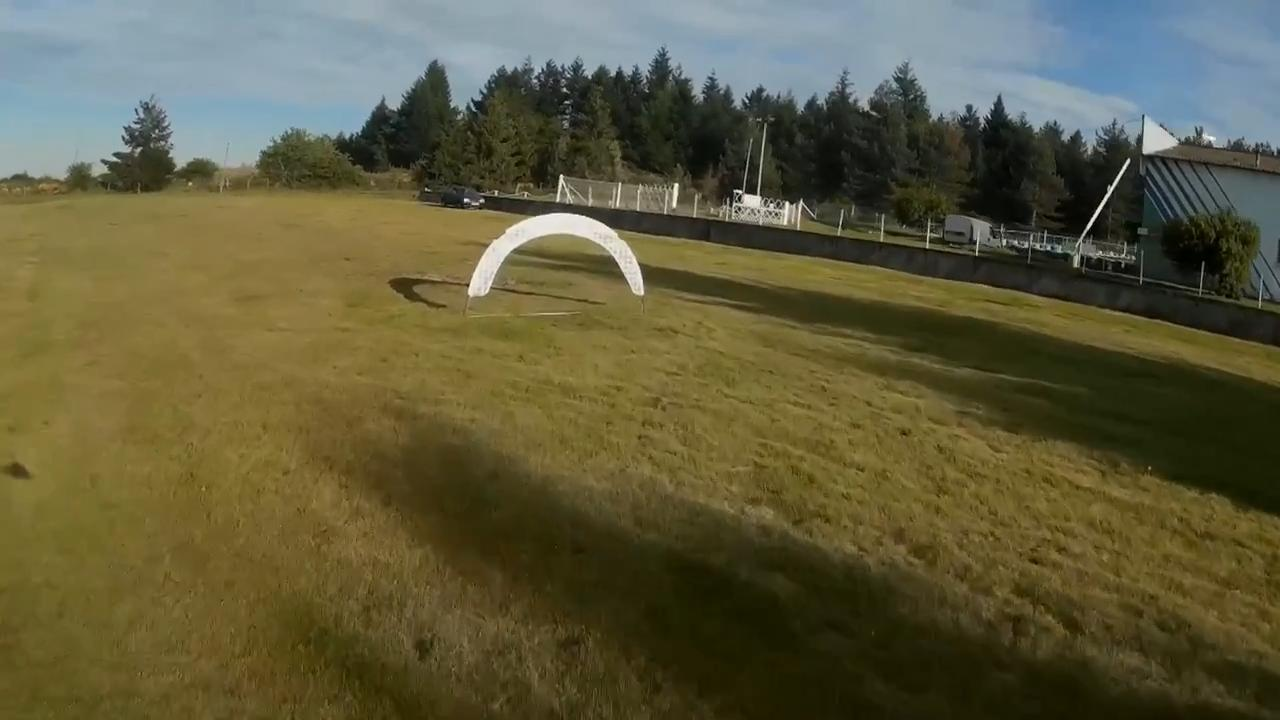gate: (469, 211, 642, 297)
